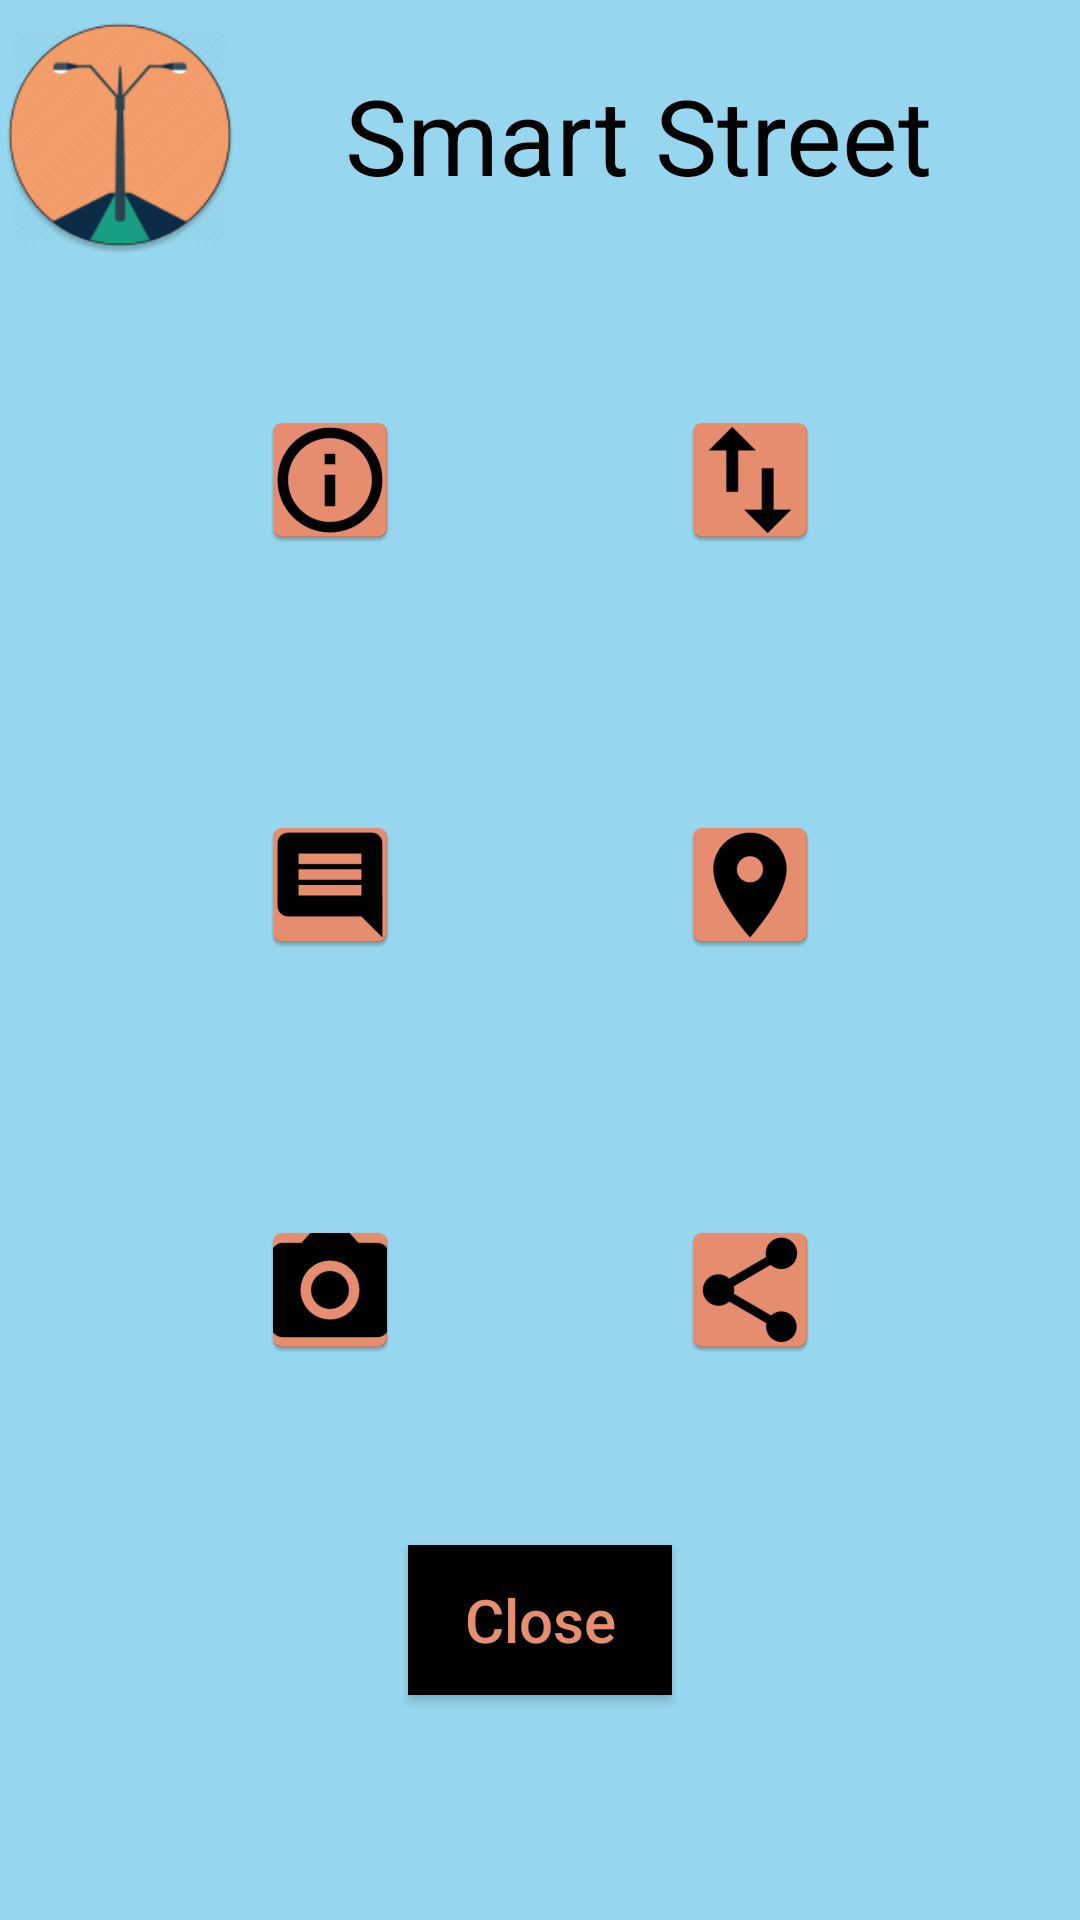

Icon bounding boxes for this 1080px x 1920px phone screenshot, format (x1, y1, x2, y2):
about: (272, 423, 388, 541)
camera: (272, 1233, 388, 1351)
comment: (272, 828, 388, 946)
interact: (692, 423, 808, 541)
nearby: (692, 828, 808, 946)
share: (692, 1233, 808, 1351)
